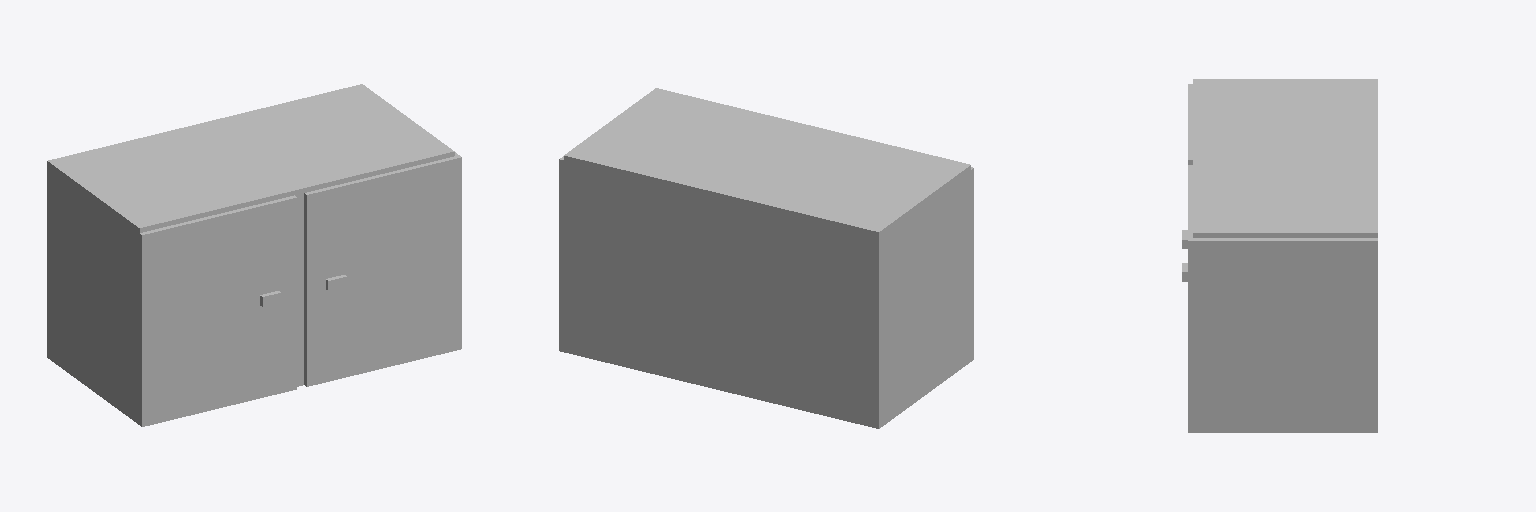
Rendered from shelf.obj.
3 views of the same model, side by side, from view 1: azimuth 30°, elevation 25°; view 2: azimuth 150°, elevation 25°; view 3: azimuth 270°, elevation 25° (orthographic).
Parts seen in each view (by area): view 1: object 1; view 2: object 1; view 3: object 1.
Part boxes in pixels (bbox=[...]): object 1: bbox=[47, 84, 461, 426]; object 1: bbox=[559, 88, 973, 428]; object 1: bbox=[1182, 79, 1377, 432].
Bounding box in the file's own units: 6.8 × 4 × 3.6.